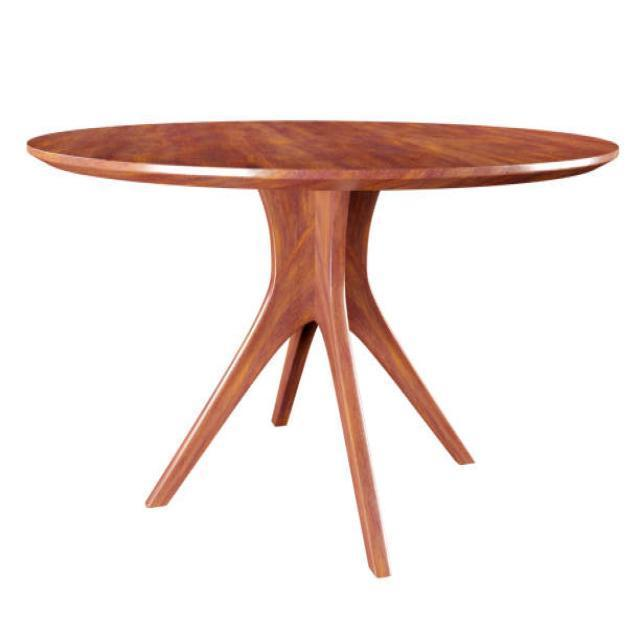table: (26, 118, 619, 578)
